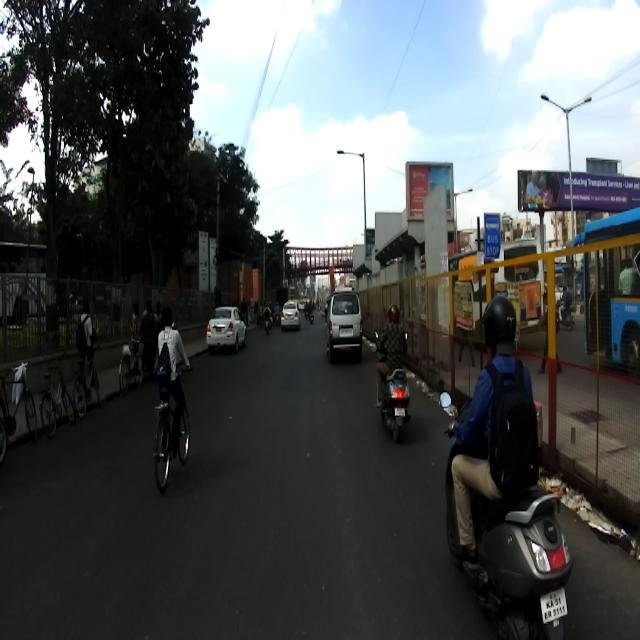bicycle ahead at: (146, 387, 198, 497)
car ahead at: (328, 281, 366, 362)
motorcycle ahead at: (458, 479, 578, 640), (374, 364, 419, 447)
